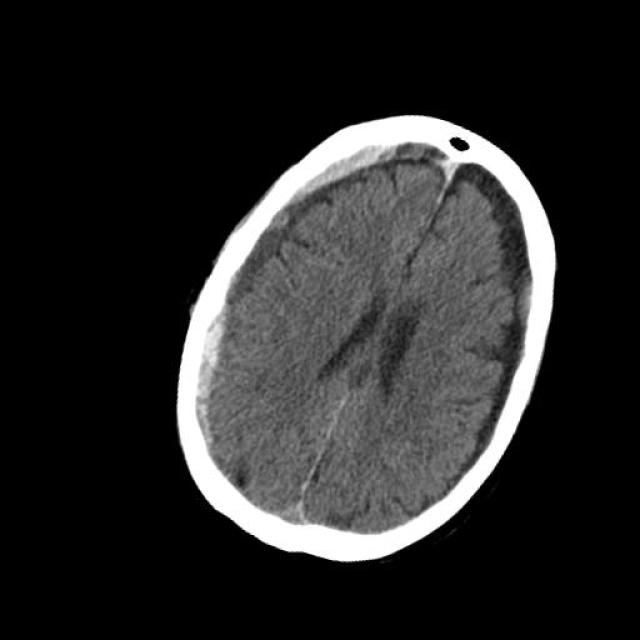Subdural: (162, 274, 272, 474)
